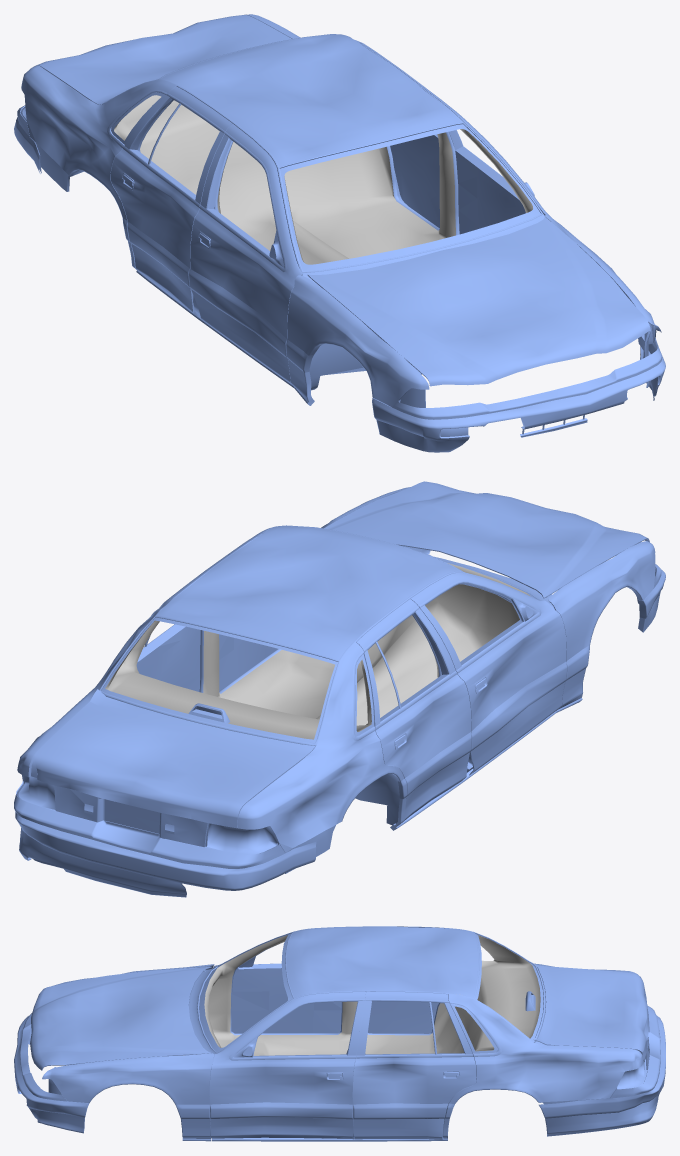
Rendered from fullsize_beater.dae.
3 views of the same model, one above another, from view 1: azimuth 30°, elevation 25°; view 2: azimuth 150°, elevation 25°; view 3: azimuth 270°, elevation 25° (orthographic). The views are drawn at different scales.
Parts seen in each view (by area): view 1: fullsize_beater_body, fullsize_beater_hood, fullsize_beater_roof, fullsize_beater_door_FR, fullsize_beater_door_RR, fullsize_beater_bumper_F, fullsize_beater_trunk, fullsize_beater_fender_R, fullsize_beater_door_FL, fullsize_beater_door_RL, fullsize_beater_fender_L, fullsize_beater_bumper_R; view 2: fullsize_beater_body, fullsize_beater_trunk, fullsize_beater_roof, fullsize_beater_hood, fullsize_beater_bumper_R, fullsize_beater_door_FR, fullsize_beater_door_RR, fullsize_beater_fender_R, fullsize_beater_door_RL, fullsize_beater_door_FL, fullsize_beater_bumper_F; view 3: fullsize_beater_body, fullsize_beater_door_FL, fullsize_beater_hood, fullsize_beater_roof, fullsize_beater_door_RL, fullsize_beater_trunk, fullsize_beater_fender_L, fullsize_beater_bumper_R, fullsize_beater_door_FR, fullsize_beater_bumper_F, fullsize_beater_door_RR.
Boxes of the visible parts, <box> form: fullsize_beater_body: <box>21,14,544,390</box>; fullsize_beater_hood: <box>307,217,650,386</box>; fullsize_beater_roof: <box>160,34,461,166</box>; fullsize_beater_door_FR: <box>188,123,302,384</box>; fullsize_beater_door_RR: <box>110,86,232,315</box>; fullsize_beater_bumper_F: <box>372,338,665,452</box>; fullsize_beater_trunk: <box>36,14,291,104</box>; fullsize_beater_fender_R: <box>286,275,429,407</box>; fullsize_beater_door_FL: <box>412,79,560,234</box>; fullsize_beater_door_RL: <box>359,42,439,228</box>; fullsize_beater_fender_L: <box>545,215,661,387</box>; fullsize_beater_bumper_R: <box>14,105,41,173</box>; fullsize_beater_body: <box>17,525,556,873</box>; fullsize_beater_trunk: <box>34,689,315,847</box>; fullsize_beater_roof: <box>156,526,460,659</box>; fullsize_beater_hood: <box>324,481,649,598</box>; fullsize_beater_bumper_R: <box>14,781,316,897</box>; fullsize_beater_door_FR: <box>411,573,567,775</box>; fullsize_beater_door_RR: <box>356,599,471,820</box>; fullsize_beater_fender_R: <box>548,541,655,712</box>; fullsize_beater_door_RL: <box>136,555,228,691</box>; fullsize_beater_door_FL: <box>219,528,277,691</box>; fullsize_beater_bumper_F: <box>421,549,665,632</box>; fullsize_beater_body: <box>184,926,647,1141</box>; fullsize_beater_door_FL: <box>209,992,365,1139</box>; fullsize_beater_hood: <box>30,967,211,1070</box>; fullsize_beater_roof: <box>286,926,477,997</box>; fullsize_beater_door_RL: <box>352,991,476,1139</box>; fullsize_beater_trunk: <box>534,964,649,1069</box>; fullsize_beater_fender_L: <box>42,1053,214,1141</box>; fullsize_beater_bumper_R: <box>539,1005,665,1136</box>; fullsize_beater_door_FR: <box>213,956,341,1033</box>; fullsize_beater_bumper_F: <box>14,1013,89,1133</box>; fullsize_beater_door_RR: <box>368,1001,438,1033</box>.
Bounding box in the file's own units: 2.02 × 5.34 × 1.26.
